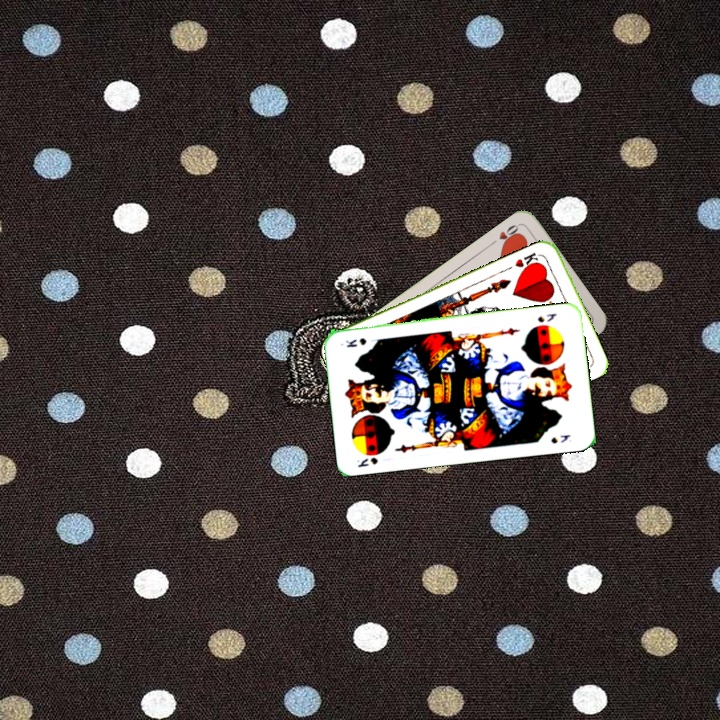HK: (511, 248, 542, 274)
HO: (486, 220, 522, 249)
SK: (353, 453, 380, 470), (534, 309, 559, 325)
